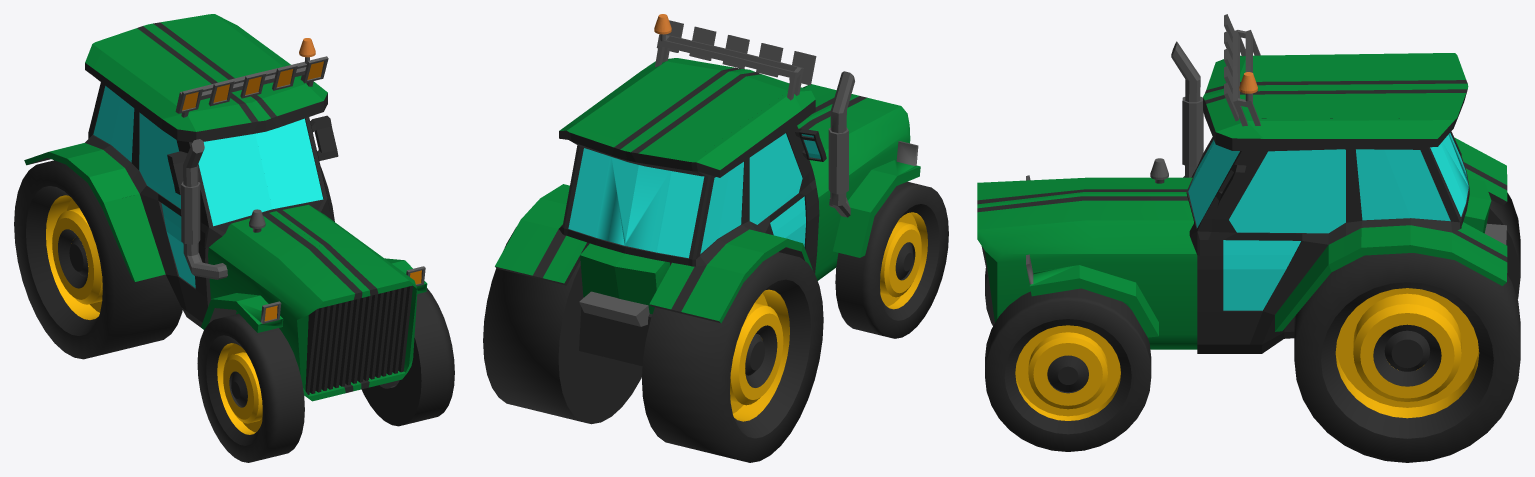
The model's file is tractor_green.glb.
3 renders of one model, left to right at view 1: azimuth 30°, elevation 25°; view 2: azimuth 150°, elevation 25°; view 3: azimuth 270°, elevation 25°, orthographic. The views are drawn at different scales.
Bounding box in the file's own units: 3.08 × 4.28 × 5.82.
